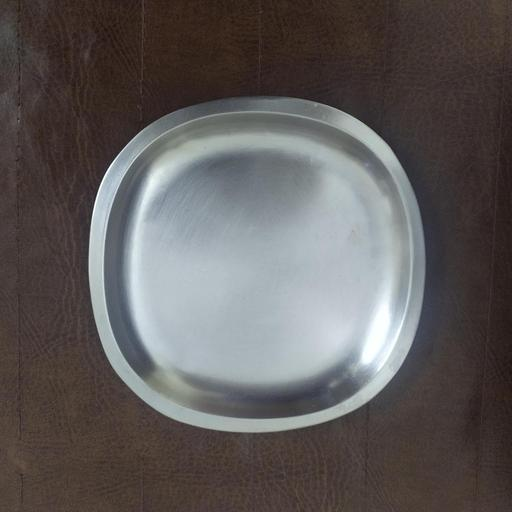plate: (88, 97, 430, 436)
